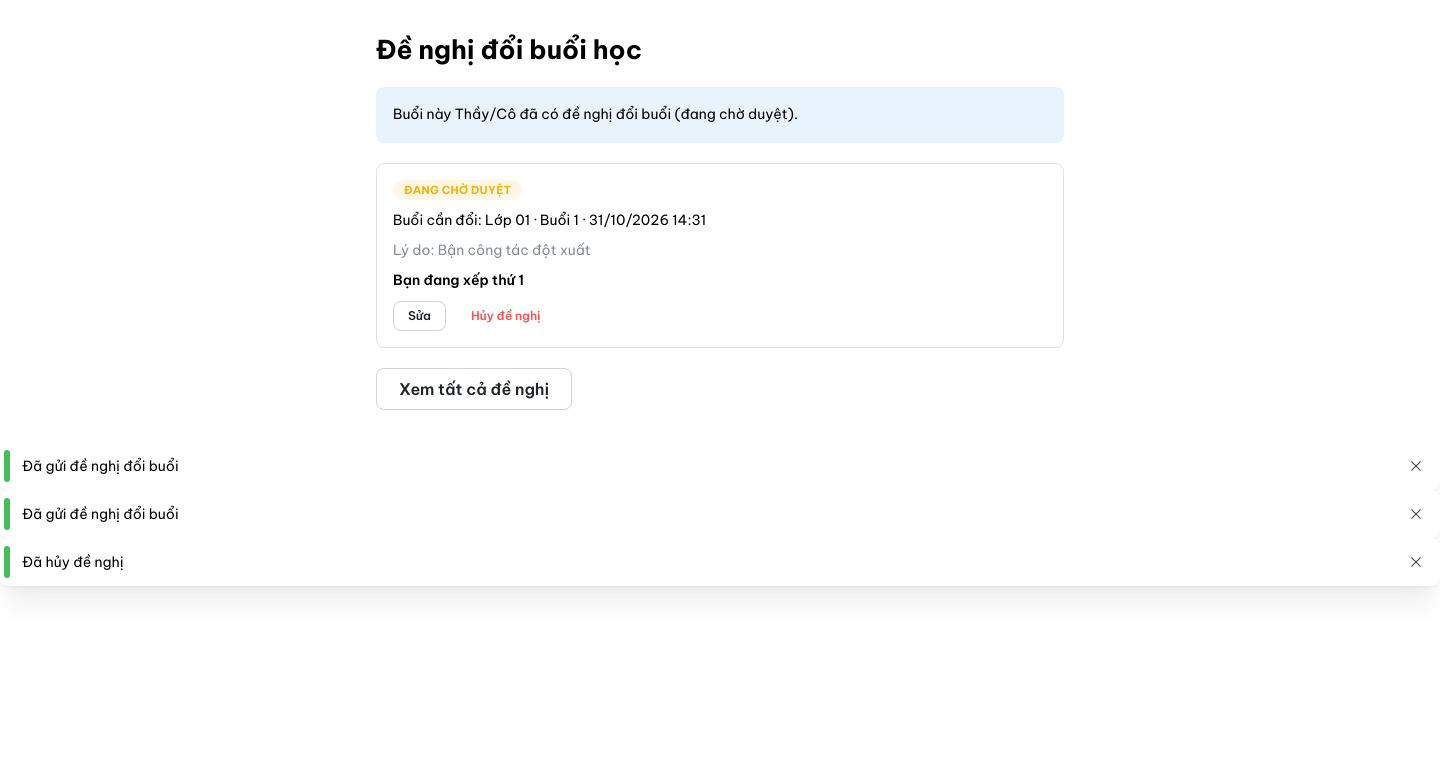
Test: Trang đề nghị đổi buổi (học viên) › ?lich= trỏ tới buổi đã có đề nghị đang chờ → hiện đề nghị đó, không hiện form gửi
Expected: the text "Buổi này Thầy/Cô đã có đề nghị đổi buổi (đang chờ duyệt)." is shown, [393, 105, 798, 123]
Expected: the text "Bạn đang xếp thứ 1" is shown, [393, 271, 524, 289]
Click the button "Xem tất cả đề nghị". click: (474,389)
box: [376, 368, 572, 410]
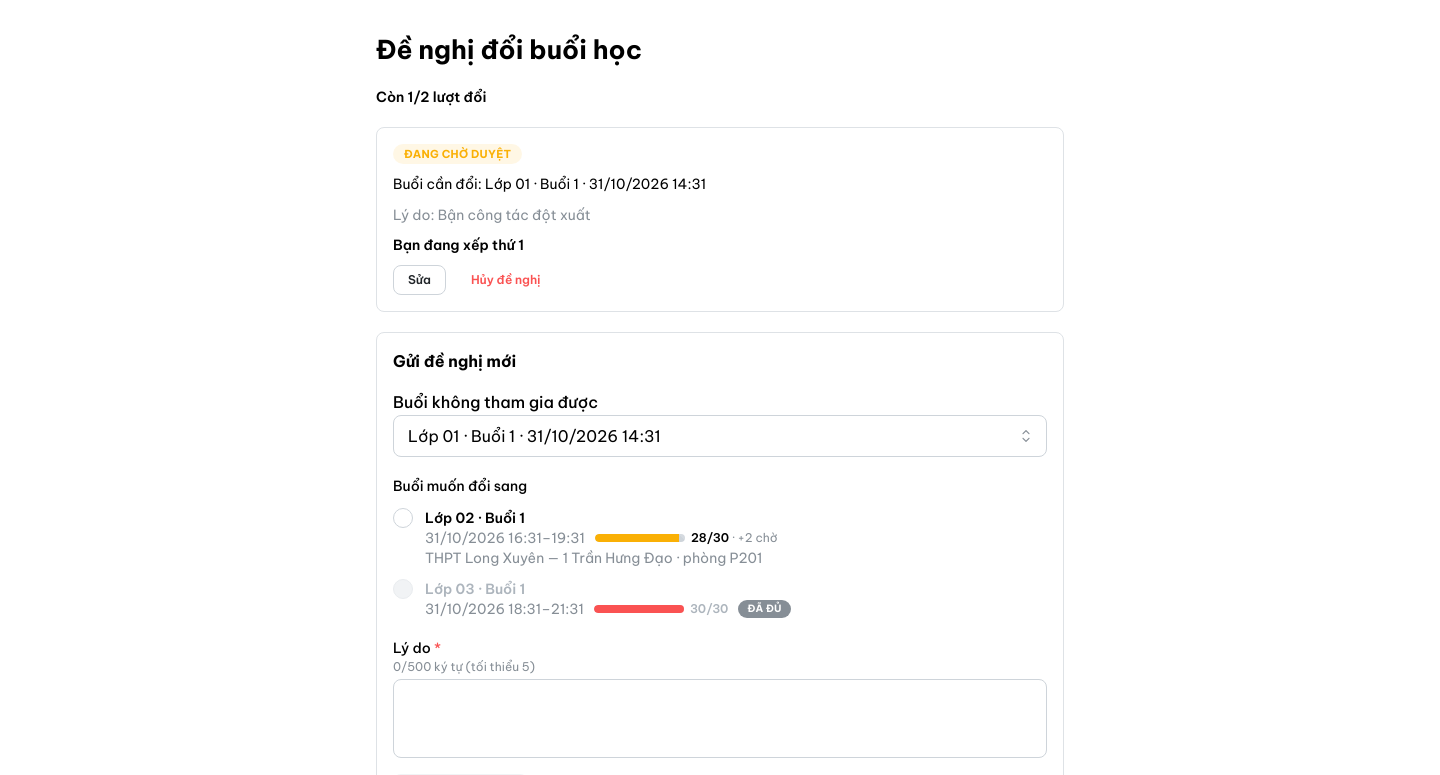
Expected: the text "Gửi đề nghị mới" is shown, [393, 351, 516, 371]
